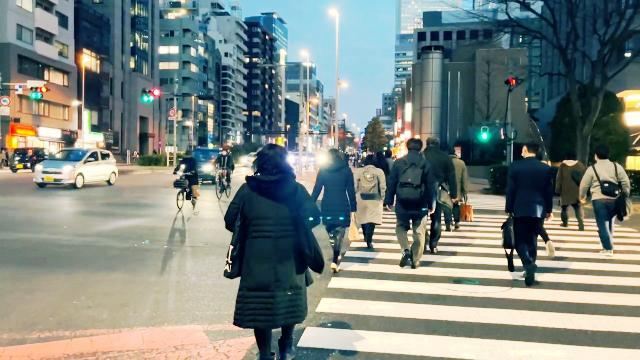berjalan: (226, 140, 320, 354), (575, 148, 635, 255), (385, 141, 433, 270), (507, 135, 548, 285), (310, 146, 354, 280), (354, 150, 386, 256), (556, 148, 586, 240)
